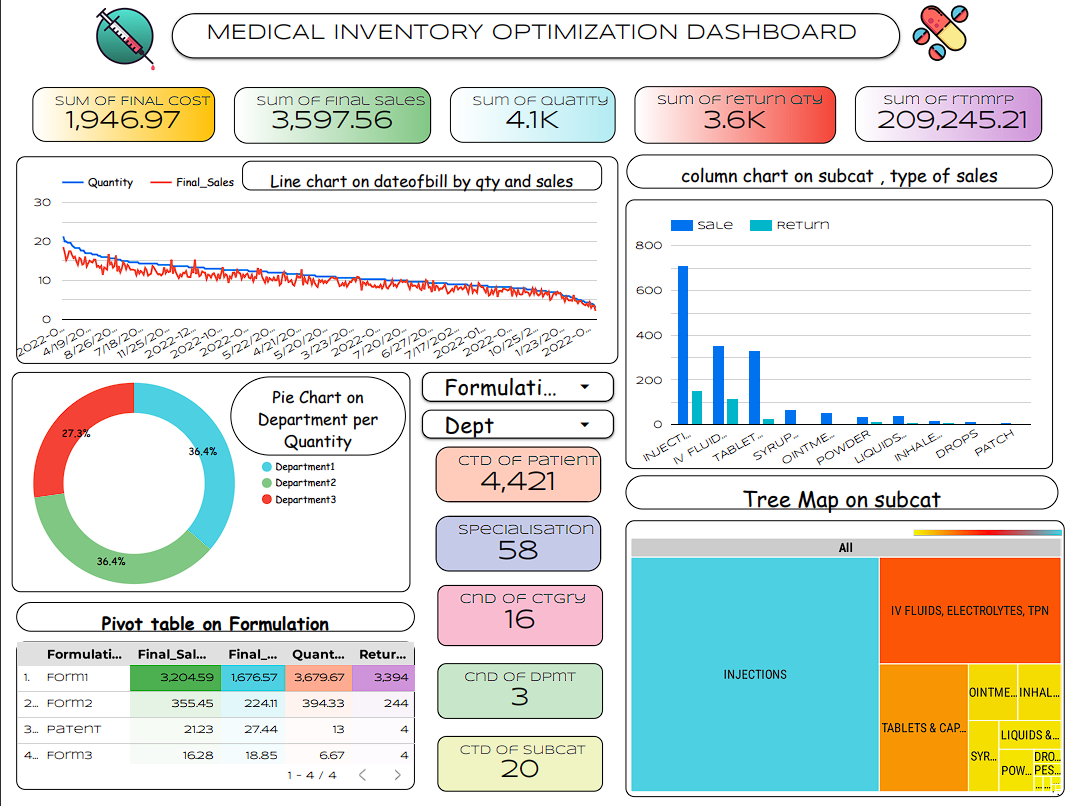

This screenshot's page, from the dashboard's own definition file:
{"tool":"powerbi","page":{"name":"Page 1","canvas":[1280,720],"ordinal":0},"visuals":[{"type":"textbox","box":[13.9,10.5,583.3,46.5],"z":0},{"type":"slicer","fields":{"Values":["preprocessed_data.Typeofsales","preprocessed_data.Formulation"]},"box":[393.8,70,203.8,236.2],"z":1000},{"type":"areaChart","fields":{"Category":["preprocessed_data.Dateofbill"],"Y":["Count(preprocessed_data.Final_Sales)"],"Y2":["Count(preprocessed_data.RtnMRP)"]},"box":[13.8,432.5,471.2,272.5],"z":2000},{"type":"donutChart","fields":{"Category":["preprocessed_data.Formulation"],"Y":["CountNonNull(preprocessed_data.Final_Sales)"]},"box":[954,10.5,311.4,295.1],"z":3000},{"type":"columnChart","fields":{"Category":["preprocessed_data.SubCat"],"Y":["CountNonNull(preprocessed_data.Final_Sales)","CountNonNull(preprocessed_data.Final_Cost)"]},"box":[13.8,70,365,352.5],"z":4000},{"type":"card","fields":{"Values":["Count(preprocessed_data.Specialisation)"]},"box":[734.4,310.2,165,112.7],"z":5000},{"type":"card","fields":{"Values":["Count(preprocessed_data.DrugName)"]},"box":[393.9,314.9,163.8,108.1],"z":6000},{"type":"card","fields":{"Values":["Count(preprocessed_data.Dept)"]},"box":[610,198.7,124.3,108.1],"z":7000},{"type":"card","fields":{"Values":["Count(preprocessed_data.Patient_ID)"]},"box":[567,312.6,159.2,106.9],"z":8000},{"type":"card","fields":{"Values":["CountNonNull(preprocessed_data.Quantity)"]},"box":[743.6,198.7,198.7,108.1],"z":9000},{"type":"columnChart","fields":{"Y":["CountNonNull(preprocessed_data.ReturnQuantity)","CountNonNull(preprocessed_data.RtnMRP)"],"Category":["preprocessed_data.SubCat1"]},"box":[916.8,312.6,348.6,392.7],"z":10000},{"type":"treemap","fields":{"Group":["preprocessed_data.SubCat"],"Values":["Count(preprocessed_data.ReturnQuantity)"]},"box":[504.3,432.2,395.1,273.1],"z":11000},{"type":"image","box":[610,10.5,332.3,177.8],"z":12000}]}

Visuals, with their boxes on the page's 1280x720 design canvas (x1, y1, x2, y2). These are canvas units, not pixel positions in the 1077x806 screenshot, which may show the page scaled, cropped or inside an application window:
textbox: <region>14, 10, 597, 57</region>
slicer - preprocessed_data.Typeofsales x preprocessed_data.Formulation: <region>394, 70, 598, 306</region>
areaChart - preprocessed_data.Dateofbill x Count(preprocessed_data.Final_Sales): <region>14, 432, 485, 705</region>
donutChart - preprocessed_data.Formulation x CountNonNull(preprocessed_data.Final_Sales): <region>954, 10, 1265, 306</region>
columnChart - preprocessed_data.SubCat x CountNonNull(preprocessed_data.Final_Sales): <region>14, 70, 379, 422</region>
card - Count(preprocessed_data.Specialisation): <region>734, 310, 899, 423</region>
card - Count(preprocessed_data.DrugName): <region>394, 315, 558, 423</region>
card - Count(preprocessed_data.Dept): <region>610, 199, 734, 307</region>
card - Count(preprocessed_data.Patient_ID): <region>567, 313, 726, 420</region>
card - CountNonNull(preprocessed_data.Quantity): <region>744, 199, 942, 307</region>
columnChart - CountNonNull(preprocessed_data.ReturnQuantity) x CountNonNull(preprocessed_data.RtnMRP): <region>917, 313, 1265, 705</region>
treemap - preprocessed_data.SubCat x Count(preprocessed_data.ReturnQuantity): <region>504, 432, 899, 705</region>
image: <region>610, 10, 942, 188</region>
